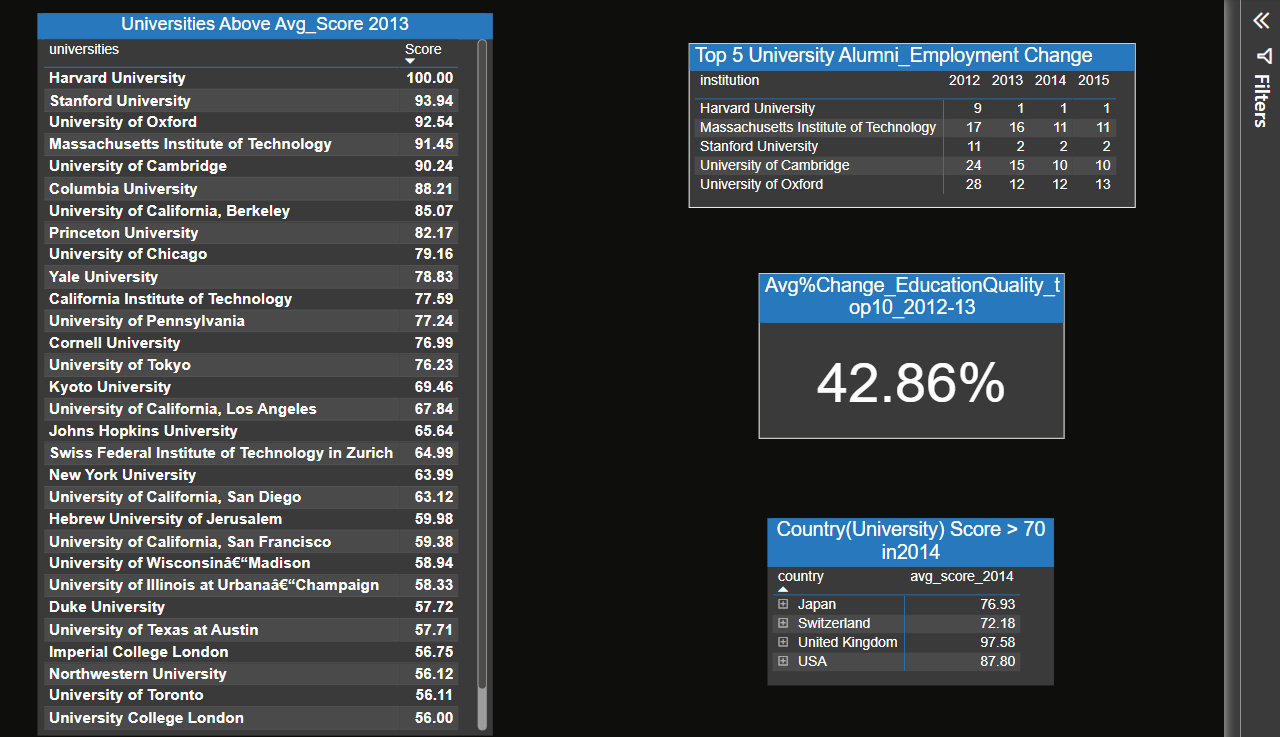

The page's visual inventory and layout, read from the dashboard file:
{"tool":"powerbi","page":{"name":"Que.17-20","canvas":[1280,720],"ordinal":2},"visuals":[{"type":"tableEx","title":"Universities Above Avg_Score 2013","fields":{"Values":["Unviersities_Above_Avg_2013.universities","Unviersities_Above_Avg_2013.Score"]},"box":[134.5,15.1,433.6,688.9],"z":0},{"type":"pivotTable","title":"Top 5 University Alumni_Employment Change","fields":{"Rows":["world_ranking_universities.institution"],"Columns":["world_ranking_universities.year"],"Values":["Sum(world_ranking_universities.alumni_employment)"]},"box":[769.8,43.9,425.4,156.4],"z":1000},{"type":"card","title":"Avg%Change_EducationQuality_top10_2012-13","fields":{"Values":["world_ranking_universities.Avg%Change_education_top10_2012-13"]},"box":[837.1,263.5,290.9,157.8],"z":2000},{"type":"pivotTable","title":"Country(University) Score > 70 in2014","fields":{"Rows":["world_ranking_universities.country","world_ranking_universities.institution"],"Values":["world_ranking_universities.avg_score_2014"]},"box":[845.3,496.7,273.1,159.2],"z":3000}]}

Visuals, with their boxes on the page's 1280x720 design canvas (x1, y1, x2, y2). These are canvas units, not pixel positions in the 1280x737 screenshot, which may show the page scaled, cropped or inside an application window:
"Universities Above Avg_Score 2013" tableEx: 134,15,568,704
"Top 5 University Alumni_Employment Change" pivotTable: 770,44,1195,200
"Avg%Change_EducationQuality_top10_2012-13" card: 837,264,1128,421
"Country(University) Score > 70 in2014" pivotTable: 845,497,1118,656
